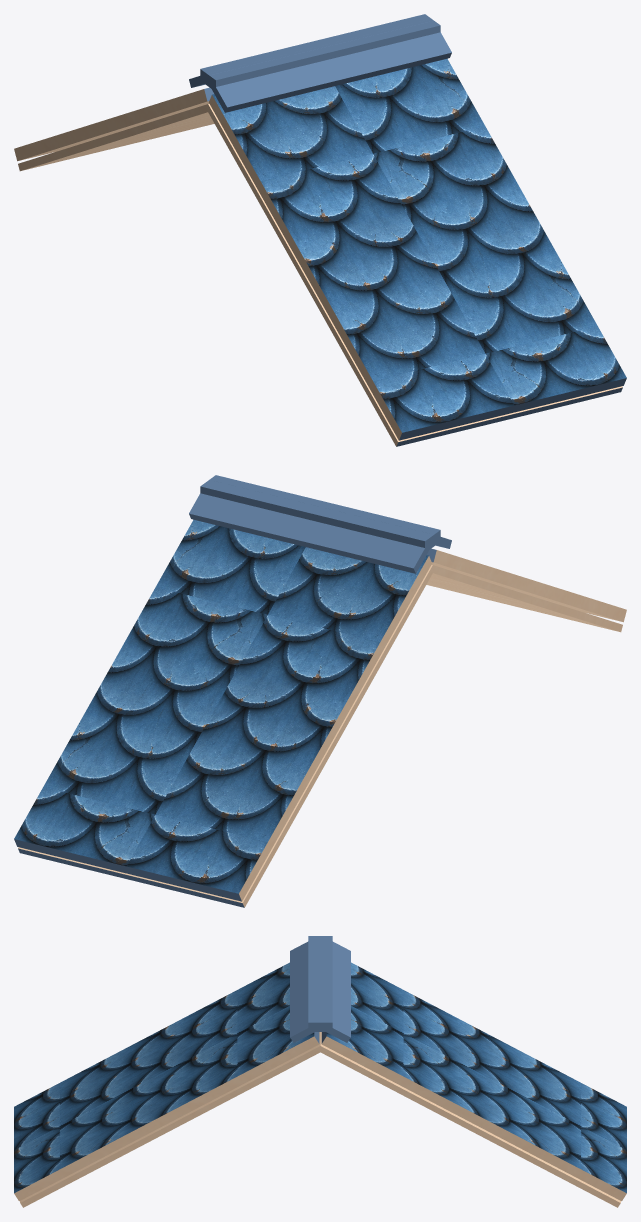
File: Roof3_Section_1m_NoEave.fbx
The picture shows the model from 3 angles, top to bottom: view 1: azimuth 30°, elevation 25°; view 2: azimuth 150°, elevation 25°; view 3: azimuth 270°, elevation 25°; orthographic projection. The views are drawn at different scales.
Parts seen in each view (by area): view 1: Roof3_Section_1m_NoEave; view 2: Roof3_Section_1m_NoEave; view 3: Roof3_Section_1m_NoEave.
Boxes of the visible parts, x1,y1,x2,y2 form: Roof3_Section_1m_NoEave: (14,14,626,446); Roof3_Section_1m_NoEave: (14,475,626,907); Roof3_Section_1m_NoEave: (14,936,626,1207).
Size of the model in its own units: 1 by 0.997 by 2.99.
Materials: 2 (2 with a texture image).
